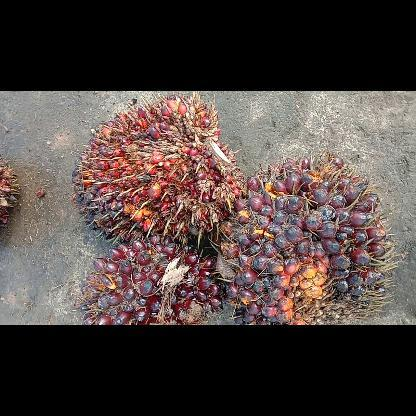Kurang masak: (218, 155, 390, 324), (79, 233, 219, 324)
TBS masak: (72, 91, 244, 241)
